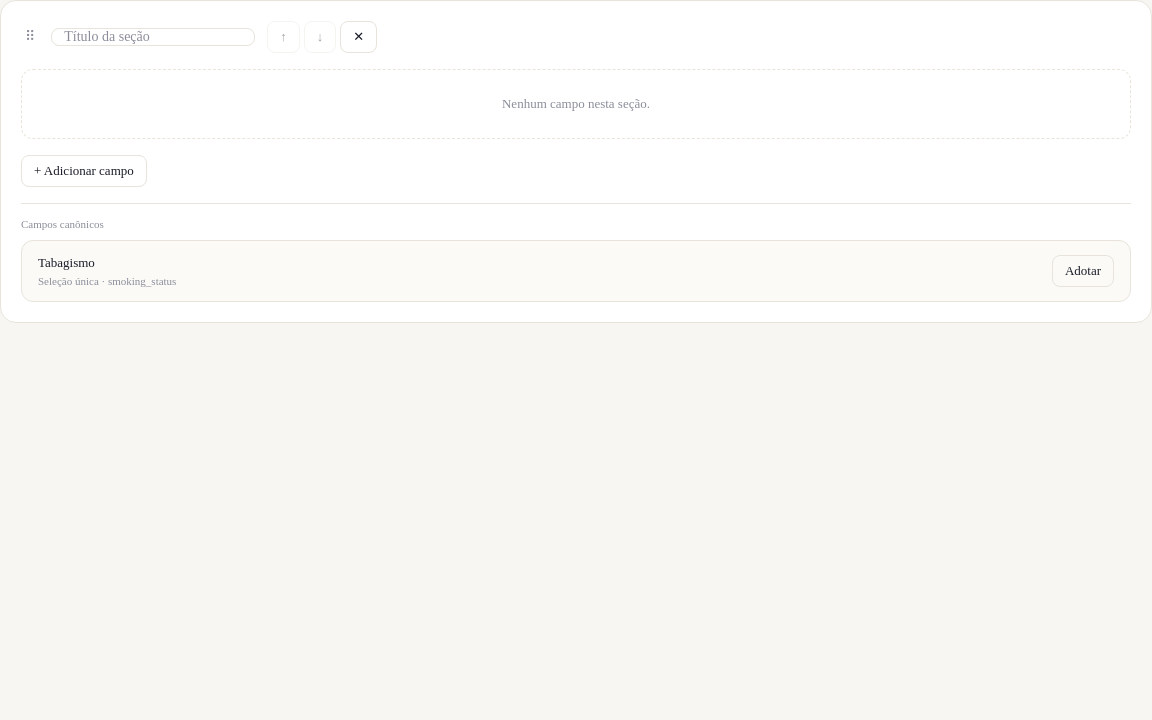
Test: SectionEditor (integration) › adopts a canonical field with options, mapping them into the new field
Click the button with test id "canonical-field-picker-adopt-canon-2" at (1083, 271), box [1052, 255, 1114, 287]
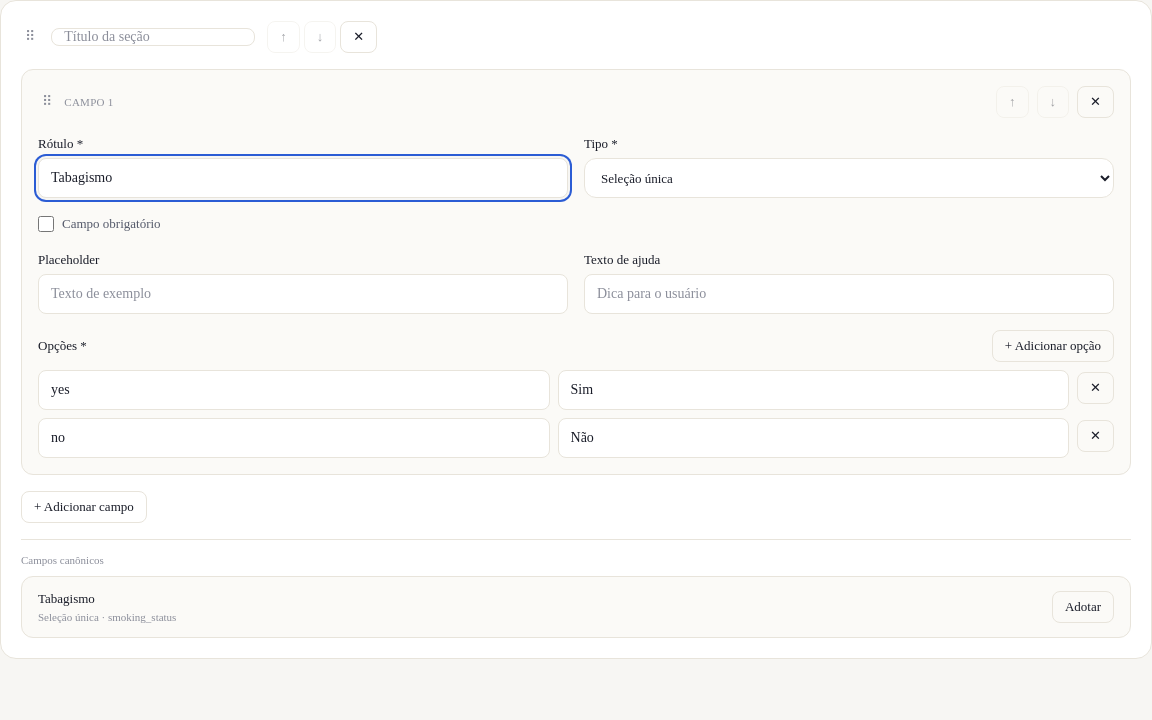
Expected: the element with test id "field-editor-0" is shown, [21, 69, 1131, 475]
Expected: the field with test id "field-editor-label-0" holds "Tabagismo", [38, 158, 568, 198]
